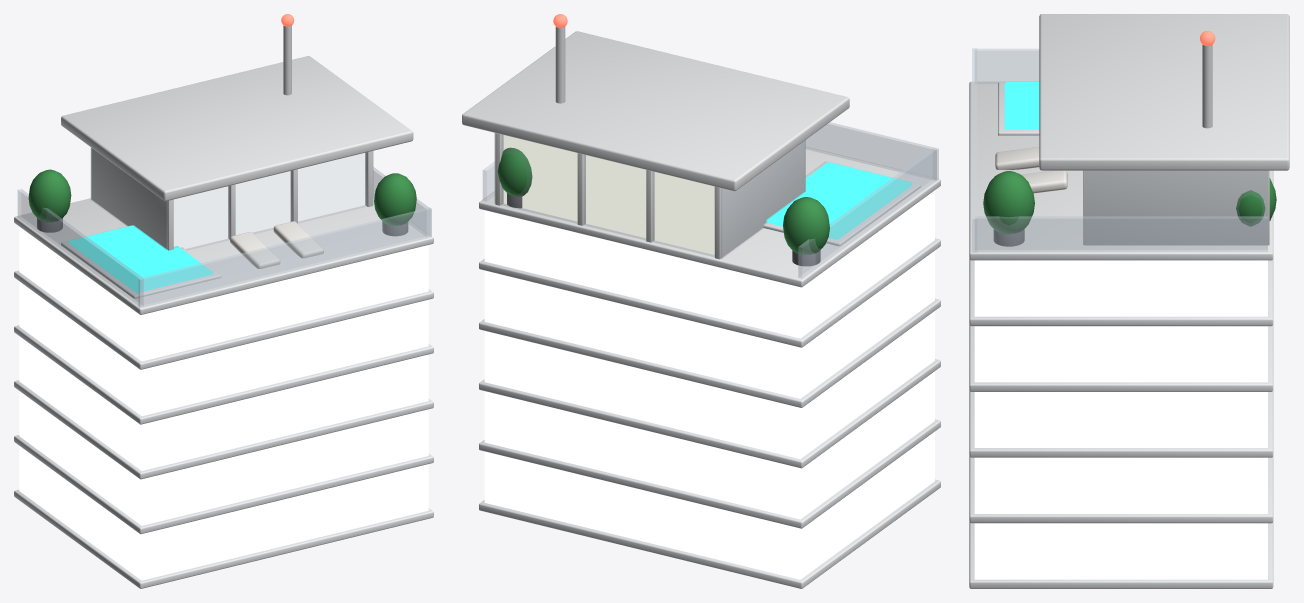
Rendered from reward-penthouse.glb.
The picture shows the model from 3 angles, left to right: view 1: azimuth 30°, elevation 25°; view 2: azimuth 150°, elevation 25°; view 3: azimuth 270°, elevation 25°; orthographic projection. The views are drawn at different scales.
Parts seen in each view (by area): view 1: tower, roof, glasswall, slab.005, inside, railf, pool, mullion, slab, slab.001, slab.002, slab.003 (+9 smaller); view 2: tower, roof, glasswall, inside, slab.005, mullion, pool, slab.003, slab, slab.002, slab.004, slab.001 (+8 smaller); view 3: tower, roof, slab.005, mullion.003, rails.001, glasswall, slab.004, slab.001, slab.002, slab.003, slab, bush (+9 smaller).
Part boxes in pixels (x1=…): tower: x1=19, y1=227, x2=428, y2=580; roof: x1=61, y1=56, x2=413, y2=201; glasswall: x1=91, y1=148, x2=373, y2=250; slab.005: x1=14, y1=194, x2=433, y2=314; inside: x1=173, y1=153, x2=365, y2=248; railf: x1=138, y1=207, x2=431, y2=307; pool: x1=69, y1=225, x2=213, y2=292; mullion: x1=91, y1=148, x2=173, y2=250; slab: x1=14, y1=490, x2=433, y2=588; slab.001: x1=14, y1=435, x2=433, y2=534; slab.002: x1=14, y1=380, x2=433, y2=479; slab.003: x1=14, y1=325, x2=433, y2=424; tower: x1=484, y1=190, x2=934, y2=579; roof: x1=462, y1=31, x2=849, y2=191; glasswall: x1=494, y1=133, x2=805, y2=258; inside: x1=503, y1=135, x2=714, y2=254; slab.005: x1=479, y1=146, x2=940, y2=287; mullion: x1=714, y1=140, x2=805, y2=259; pool: x1=766, y1=162, x2=912, y2=239; slab.003: x1=479, y1=298, x2=940, y2=407; slab: x1=479, y1=479, x2=940, y2=588; slab.002: x1=479, y1=359, x2=940, y2=468; slab.004: x1=479, y1=238, x2=940, y2=347; slab.001: x1=479, y1=419, x2=940, y2=528; tower: x1=974, y1=260, x2=1267, y2=579; roof: x1=1039, y1=14, x2=1289, y2=170; slab.005: x1=969, y1=81, x2=1273, y2=260; mullion.003: x1=1083, y1=170, x2=1269, y2=245; rails.001: x1=975, y1=216, x2=1267, y2=251; glasswall: x1=1085, y1=171, x2=1267, y2=216; slab.004: x1=969, y1=259, x2=1273, y2=326; slab.001: x1=969, y1=456, x2=1273, y2=523; slab.002: x1=969, y1=390, x2=1273, y2=457; slab.003: x1=969, y1=325, x2=1273, y2=391; slab: x1=969, y1=522, x2=1273, y2=588; bush: x1=983, y1=171, x2=1034, y2=233.
Size of the model in its own units: 2.45 by 3.39 by 1.85.
